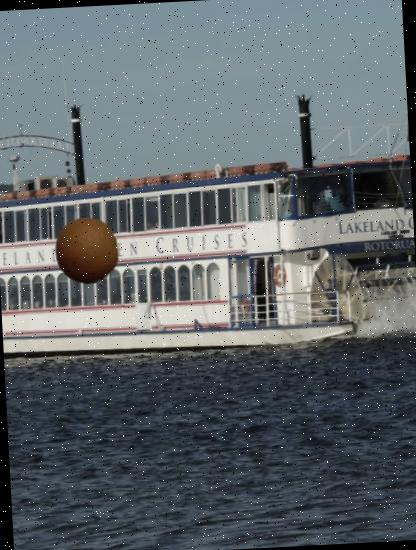Orange: (52, 216, 121, 285)
